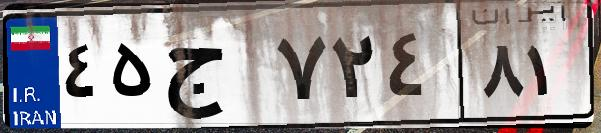1: (525, 38, 570, 115)
2: (330, 28, 385, 110)
4: (385, 28, 445, 110), (57, 26, 110, 100)
5: (110, 28, 158, 98)
7: (270, 28, 330, 110)
8: (475, 38, 525, 113)
ج: (158, 20, 270, 120)
